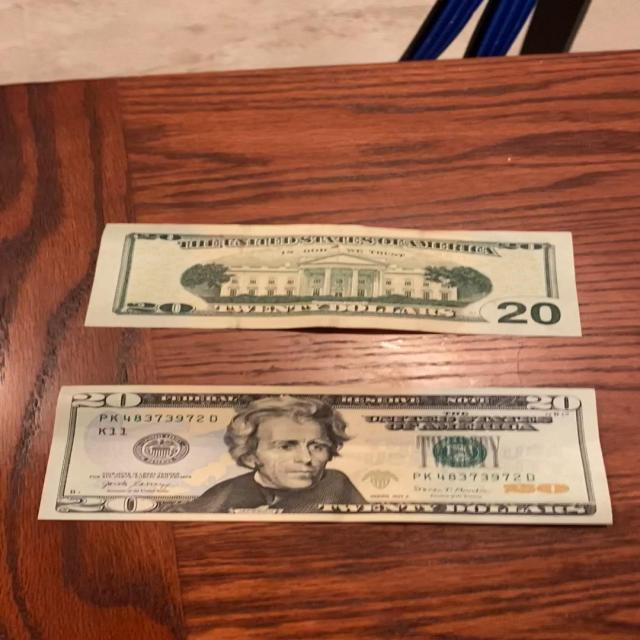20-Back: (81, 219, 592, 344)
20-Front: (36, 380, 610, 530)
